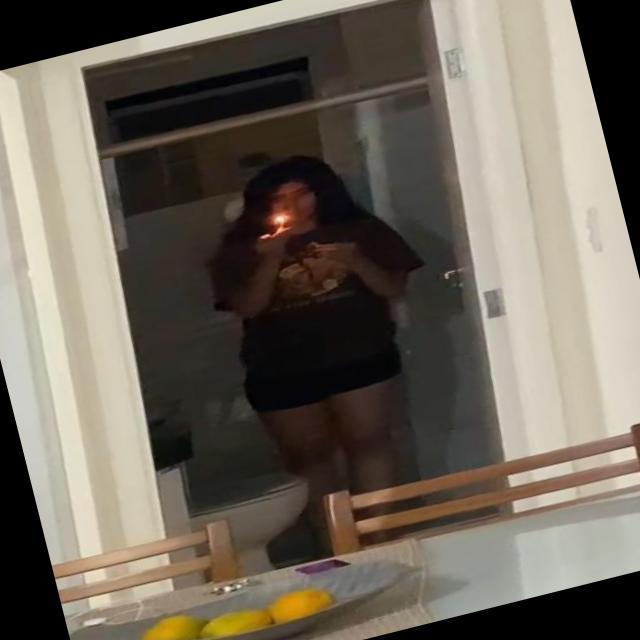Fire: (270, 208, 292, 230)
